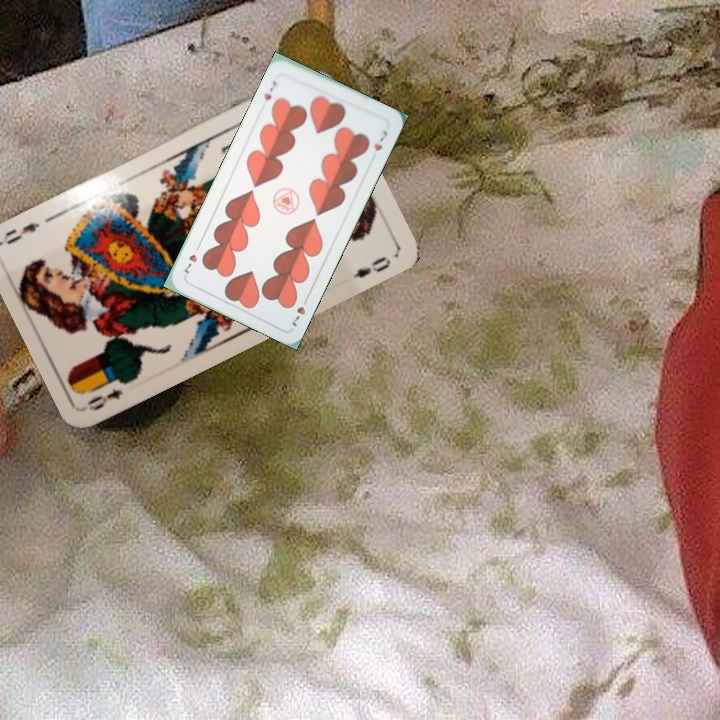EO: (82, 384, 126, 414)
H7: (287, 292, 311, 329), (260, 76, 280, 103)
